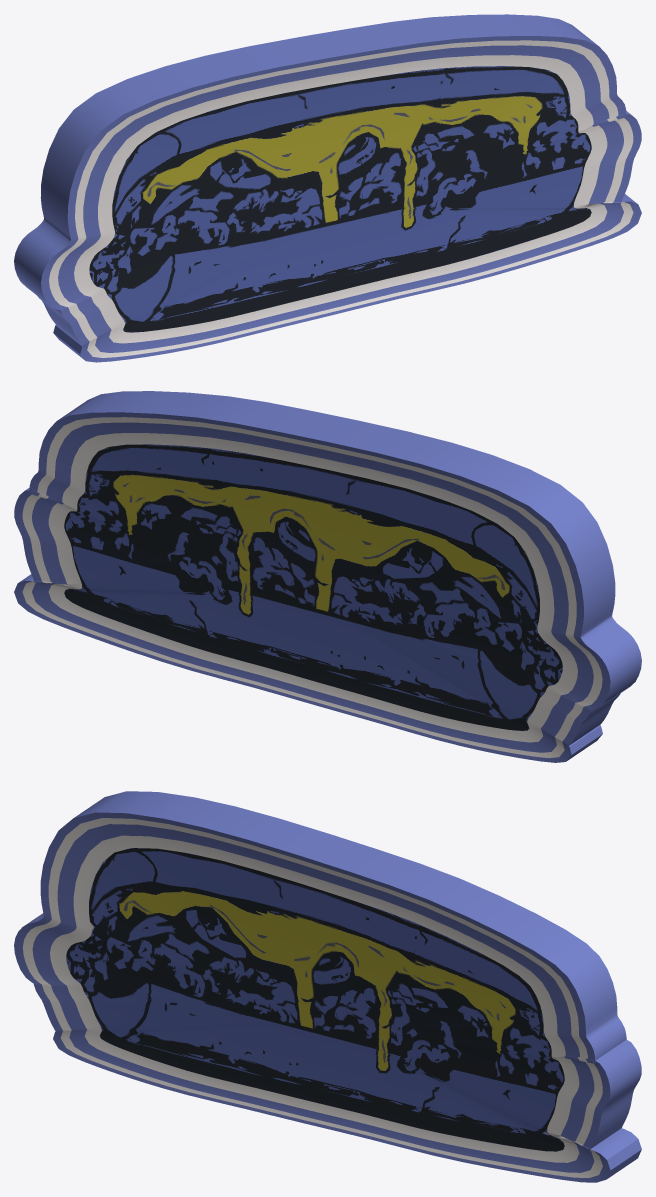
File: SM_philCheese.fbx
3 renders of one model, top to bottom at view 1: azimuth 30°, elevation 25°; view 2: azimuth 150°, elevation 25°; view 3: azimuth 330°, elevation 25°, orthographic. The views are drawn at different scales.
Parts seen in each view (by area): view 1: philCheese; view 2: philCheese; view 3: philCheese.
Part boxes in pixels (bbox=[...]): philCheese: bbox=[14, 14, 641, 362]; philCheese: bbox=[14, 391, 641, 762]; philCheese: bbox=[14, 791, 641, 1182].
Size of the model in its own units: 237 by 101 by 28.23.
